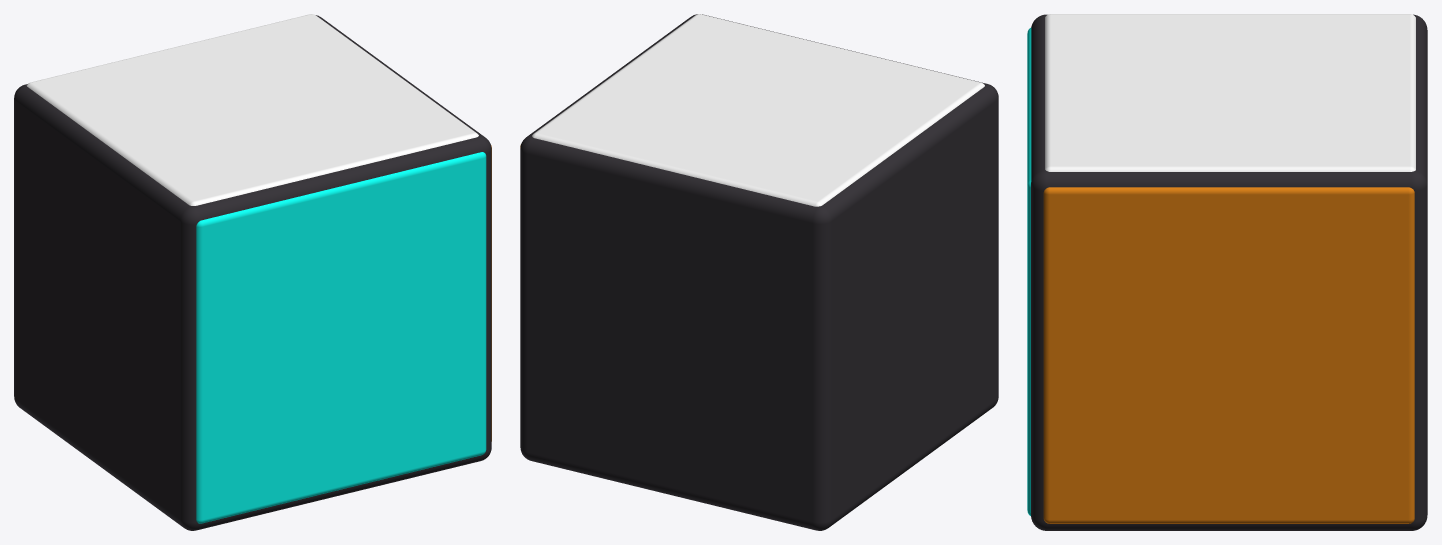
The model's file is wobCorner.obj.
The picture shows the model from 3 angles, left to right: view 1: azimuth 30°, elevation 25°; view 2: azimuth 150°, elevation 25°; view 3: azimuth 270°, elevation 25°; orthographic projection. The views are drawn at different scales.
Visible parts, largest first — view 1: 003_blue_(face), 000_Base, 002_white; view 2: 000_Base, 002_white; view 3: 001_orange, 002_white, 000_Base, 003_blue_(face).
Boxes of the visible parts, <box> form: 003_blue_(face): <box>196,152,486,523</box>; 000_Base: <box>14,15,491,530</box>; 002_white: <box>26,14,478,205</box>; 000_Base: <box>520,14,998,530</box>; 002_white: <box>532,14,984,206</box>; 001_orange: <box>1043,187,1414,523</box>; 002_white: <box>1045,14,1415,171</box>; 000_Base: <box>1031,14,1427,530</box>; 003_blue_(face): <box>1027,27,1031,515</box>.
Bounding box in the file's own units: 101 × 101 × 101.
